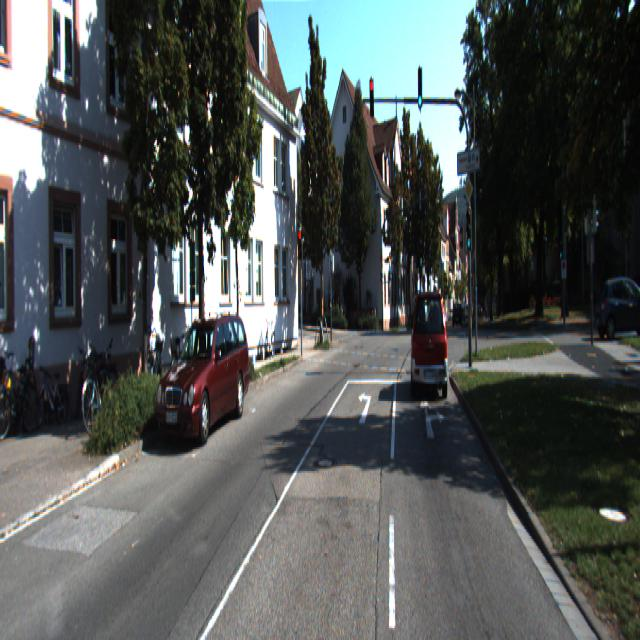Car: (156, 316, 252, 449), (409, 293, 448, 402), (594, 274, 640, 339)
